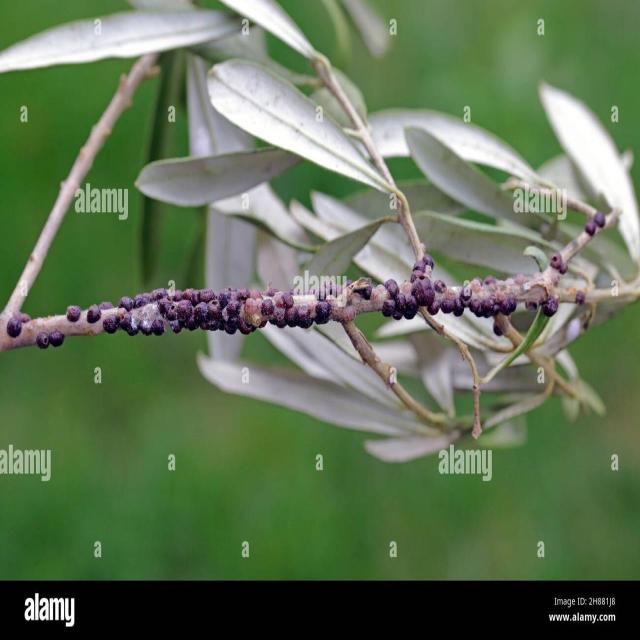Black Scale: (104, 288, 294, 335), (427, 276, 518, 320), (382, 279, 418, 320), (286, 300, 332, 329), (411, 254, 435, 306), (6, 312, 30, 338), (584, 211, 606, 237), (36, 330, 65, 349), (540, 296, 558, 318), (549, 253, 567, 274), (86, 302, 102, 323), (66, 305, 82, 322), (574, 290, 586, 305)
